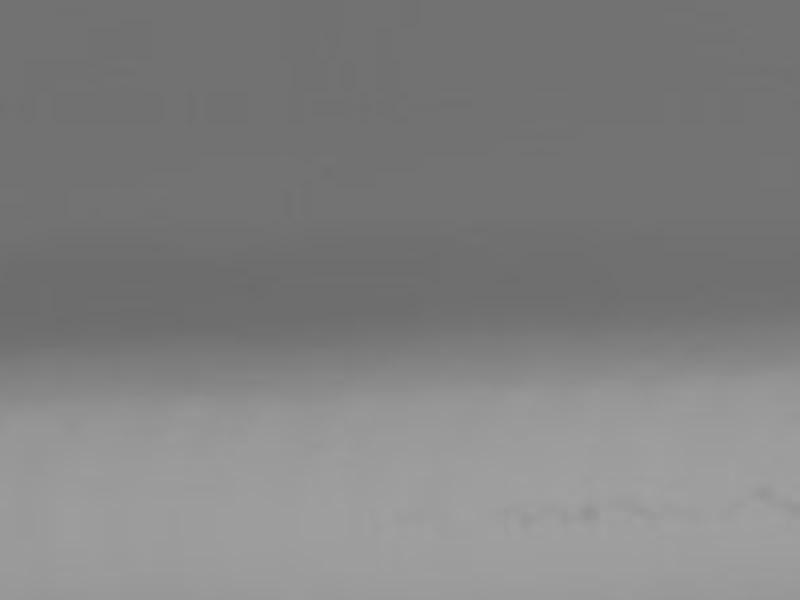defect: (628, 501, 663, 524), (747, 482, 773, 503), (515, 507, 534, 530), (577, 504, 599, 523), (781, 496, 800, 516)
